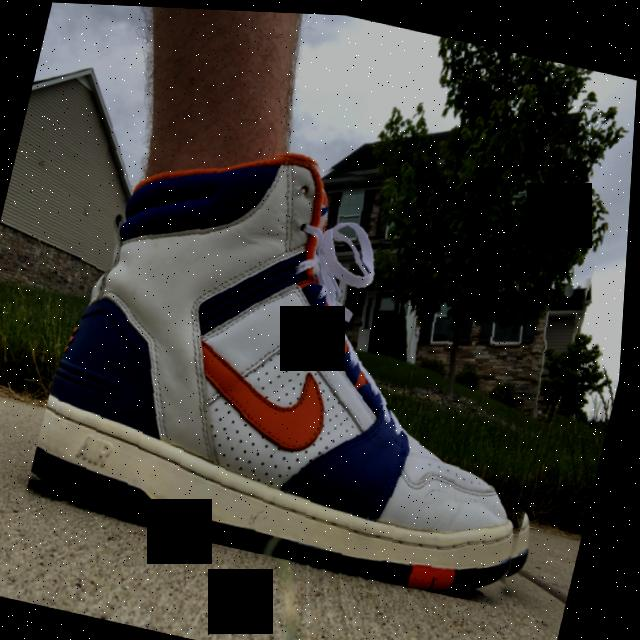shoe: (26, 111, 613, 608)
